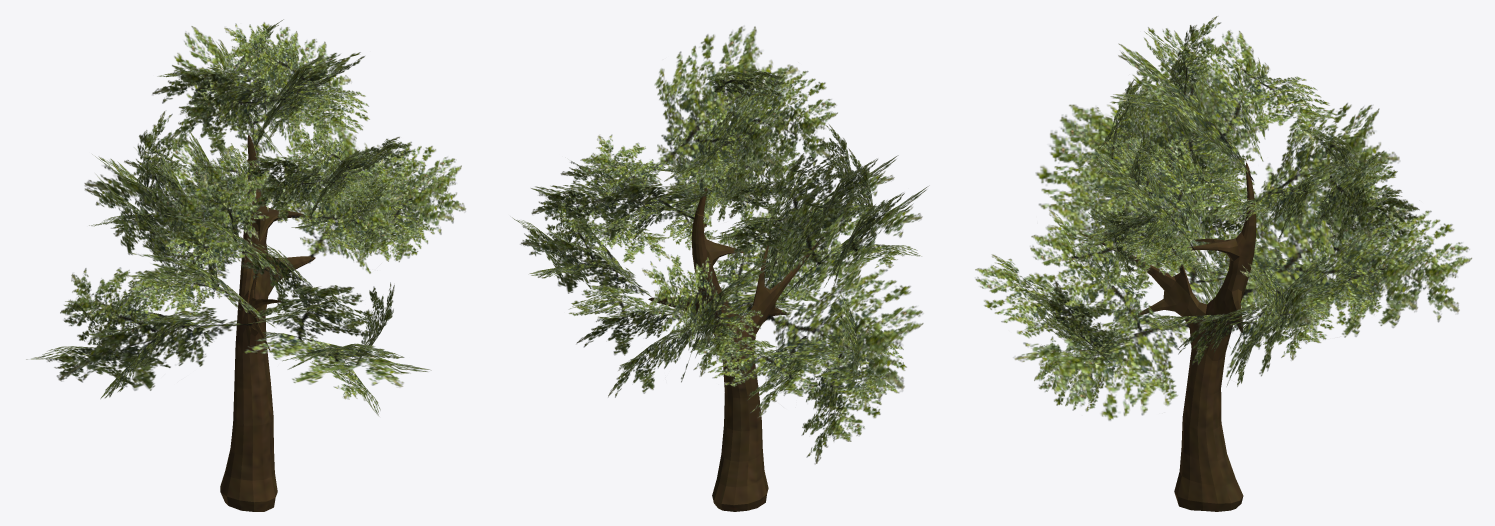
File: free_tree.glb
3 views of the same model, side by side, from view 1: azimuth 30°, elevation 25°; view 2: azimuth 150°, elevation 25°; view 3: azimuth 270°, elevation 25° (orthographic). The views are drawn at different scales.
Parts seen in each view (by area): view 1: Plane.001, Trunk3; view 2: Plane.001, Trunk3; view 3: Plane.001, Trunk3.
Boxes of the visible parts, left/top/right/bottom form: Plane.001: left=26, top=19, right=465, bottom=415; Trunk3: left=220, top=134, right=315, bottom=511; Plane.001: left=512, top=26, right=928, bottom=464; Trunk3: left=648, top=187, right=823, bottom=511; Plane.001: left=975, top=16, right=1471, bottom=420; Trunk3: left=1081, top=162, right=1256, bottom=511.
Size of the model in its own units: 15.52 by 16.66 by 16.
2 materials, 2 textured.
